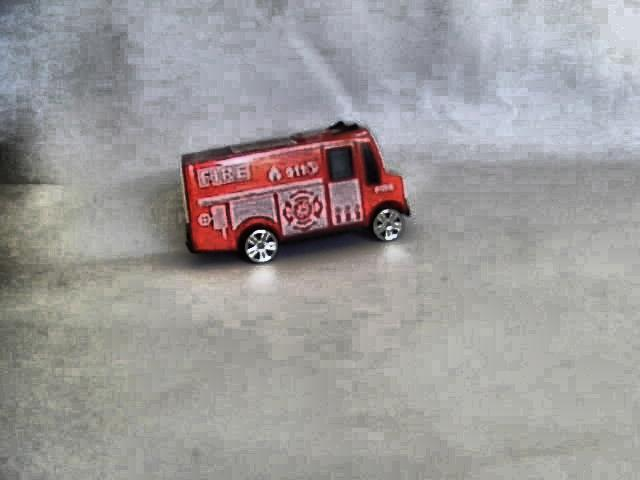fire_truck: (173, 118, 413, 270)
